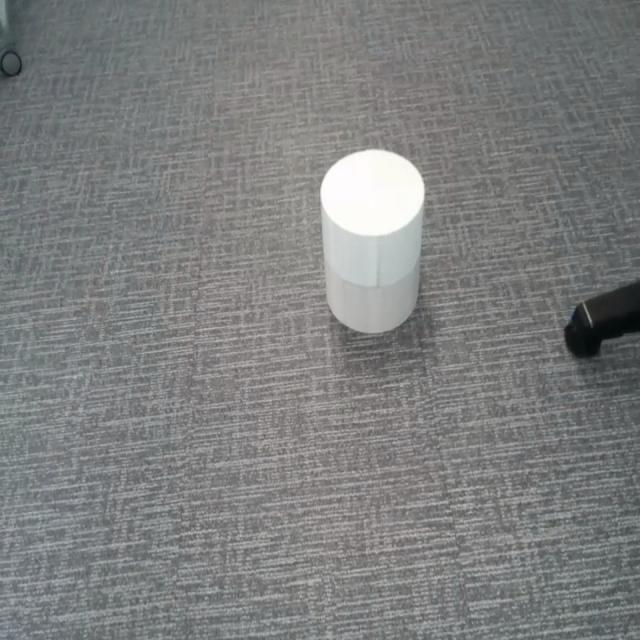cylinder: (318, 148, 426, 338)
